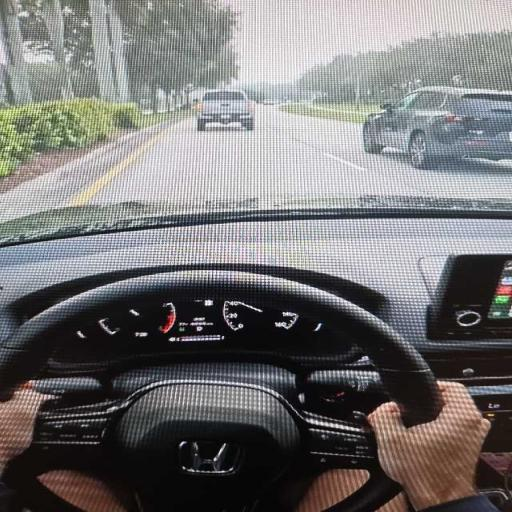car: (363, 87, 511, 168), (197, 90, 254, 130)
lane: (0, 107, 511, 221), (283, 114, 511, 199)
person: (368, 383, 496, 511)
